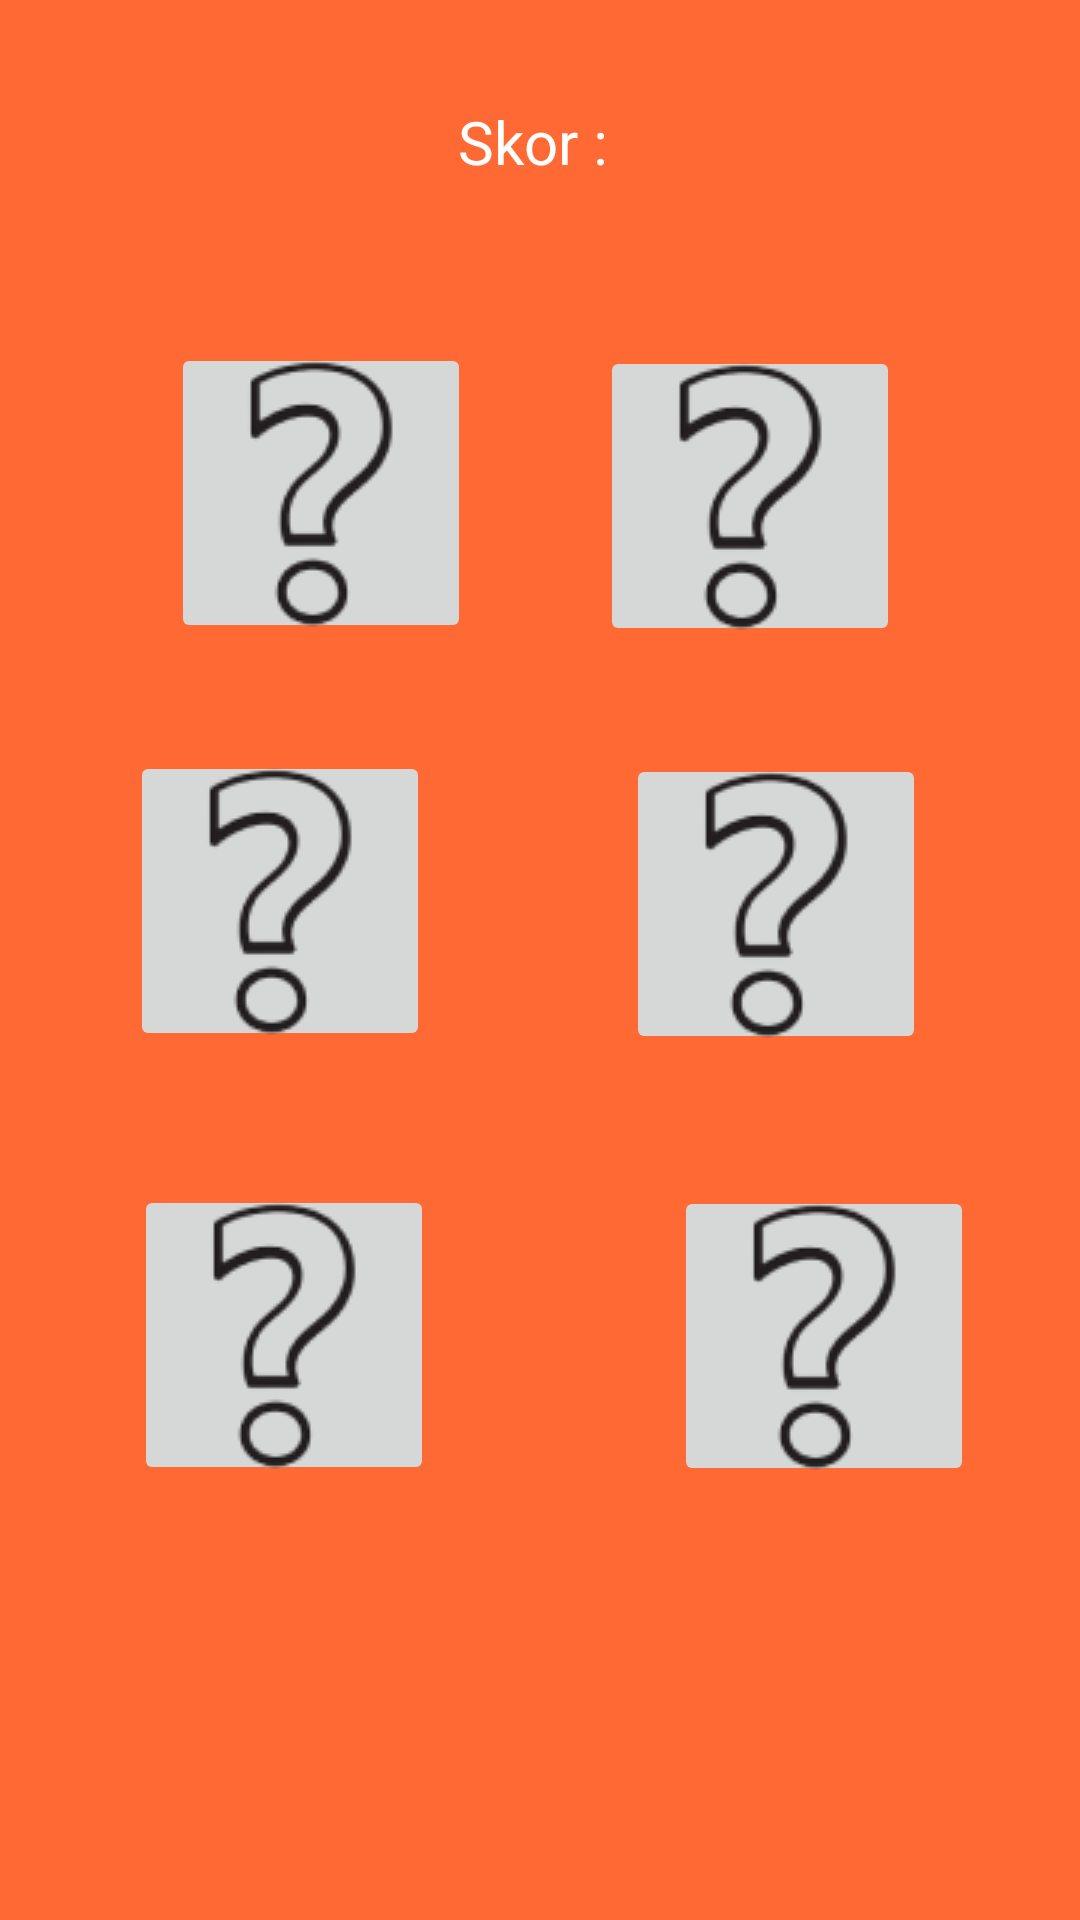

Named icons in this screenshot (1080px×1920px) and their bounding boxes, [x1, y1, x2, y2]:
questmark: [183, 361, 459, 627], [612, 364, 888, 630], [142, 769, 418, 1035], [638, 772, 914, 1038], [146, 1203, 422, 1469], [686, 1204, 962, 1470]
